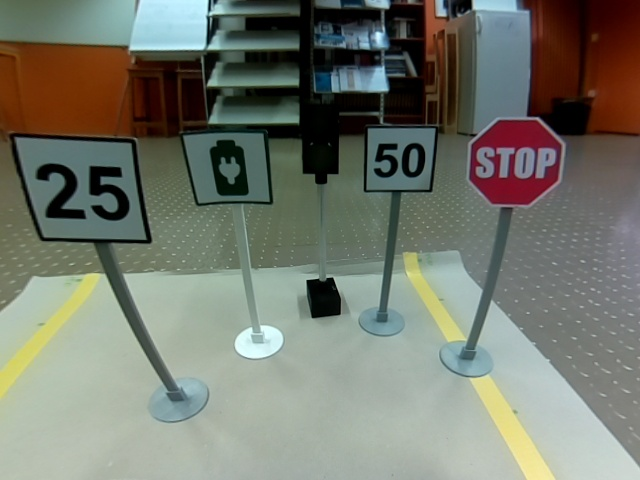battery: (179, 130, 274, 206)
speed25: (7, 131, 152, 243)
speed50: (363, 124, 439, 193)
stop: (467, 117, 566, 206)
trafficLightOff: (299, 102, 340, 175)
